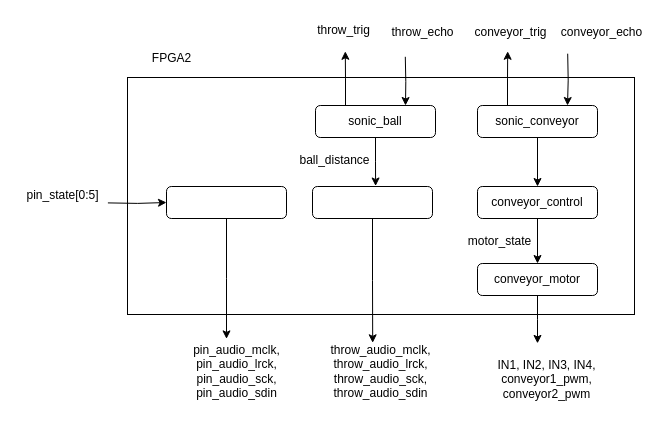
The diagram is 667 pixels wide and 423 high, and some of its shapes have lost their labels. Here are the shapes that lost their labels. From the top down, the centre of each, then its label:
At [226,202]: "pin_sound_control".
At [372,202]: "ball_sound_control".
